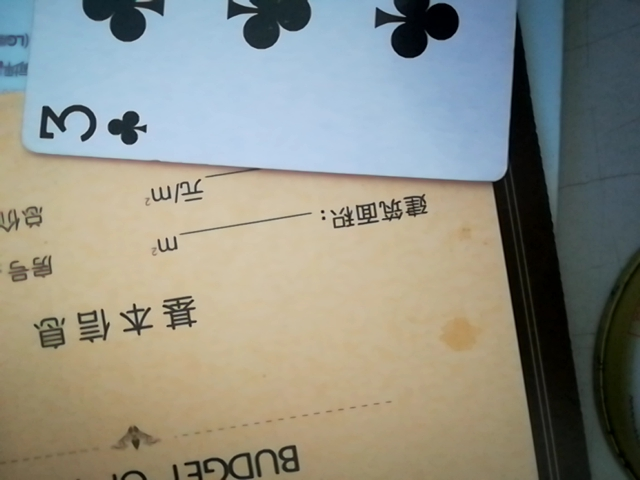mh 3: (6, 0, 528, 185)
